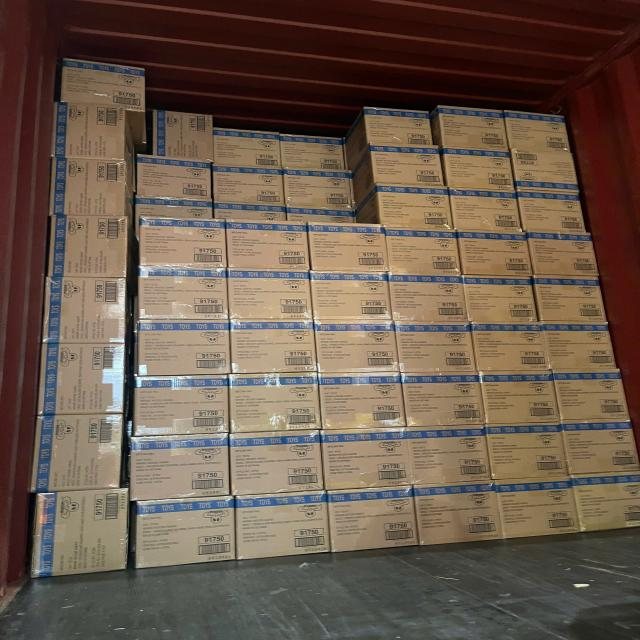Carton: (34, 493, 129, 581), (131, 504, 235, 571), (37, 413, 126, 491), (128, 440, 231, 503), (45, 341, 126, 415), (228, 433, 321, 496), (238, 504, 332, 564), (131, 380, 229, 436), (48, 278, 128, 346), (231, 373, 322, 432), (329, 492, 417, 552), (51, 214, 130, 278), (323, 437, 412, 493), (414, 489, 497, 547), (58, 56, 147, 110), (135, 328, 231, 378), (136, 271, 230, 322), (320, 374, 404, 430), (50, 101, 127, 162), (135, 223, 227, 274), (50, 162, 130, 220), (407, 434, 488, 489), (403, 376, 483, 428), (498, 486, 578, 538), (487, 430, 566, 482), (226, 275, 311, 323), (232, 328, 318, 375), (224, 228, 307, 276), (317, 328, 399, 376), (397, 327, 475, 376), (560, 425, 638, 474), (480, 376, 557, 425), (313, 277, 393, 323), (311, 231, 389, 277), (472, 329, 548, 376), (554, 378, 628, 426), (434, 104, 506, 153), (545, 328, 618, 376), (576, 479, 640, 533), (152, 112, 216, 166), (388, 235, 462, 280), (390, 279, 467, 322), (535, 278, 608, 323), (135, 159, 211, 202), (464, 279, 536, 324), (376, 190, 453, 232), (369, 148, 445, 189), (459, 234, 533, 276), (530, 235, 602, 277), (446, 154, 517, 196), (511, 148, 582, 190), (520, 195, 590, 236), (283, 169, 356, 208), (452, 194, 523, 234), (213, 127, 283, 167), (363, 106, 434, 145), (504, 110, 570, 151), (279, 133, 349, 171), (211, 172, 282, 208)
